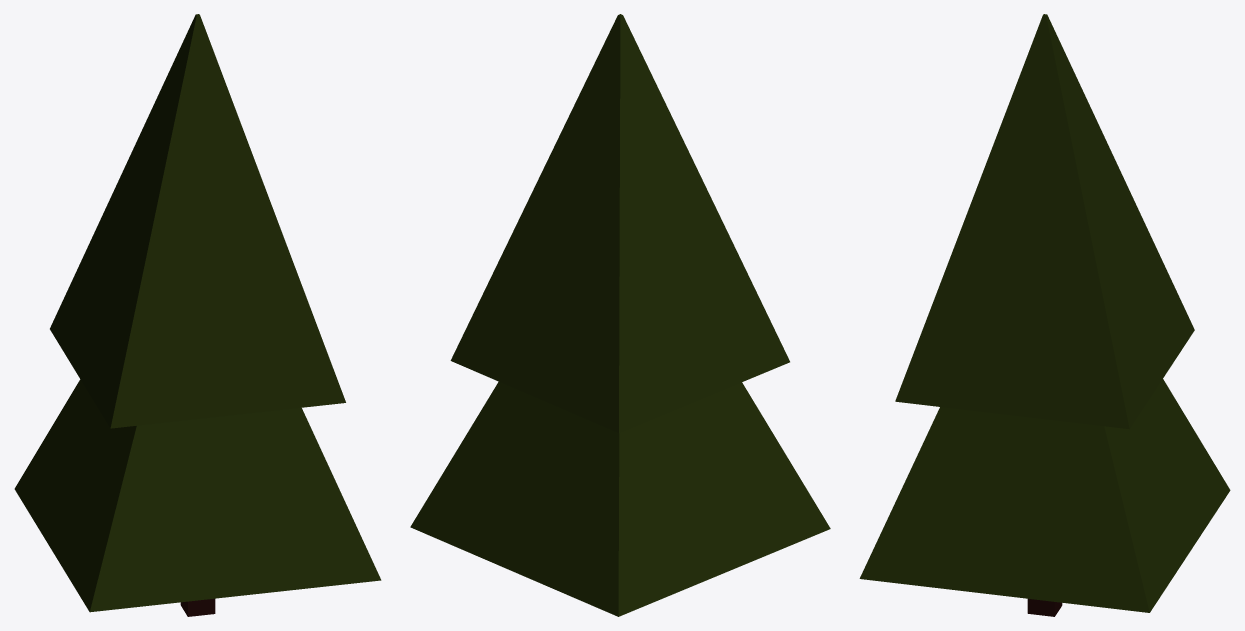
Rendered from tree1.obj.
The picture shows the model from 3 angles, left to right: view 1: azimuth 30°, elevation 25°; view 2: azimuth 150°, elevation 25°; view 3: azimuth 270°, elevation 25°; orthographic projection.
Parts seen in each view (by area): view 1: Cube.000_Cube.008, Cube.000_Cube.000; view 2: Cube.000_Cube.008; view 3: Cube.000_Cube.008, Cube.000_Cube.000.
Part boxes in pixels (bbox=[...]): Cube.000_Cube.008: bbox=[14, 14, 381, 612]; Cube.000_Cube.000: bbox=[180, 598, 215, 616]; Cube.000_Cube.008: bbox=[410, 14, 830, 616]; Cube.000_Cube.008: bbox=[859, 14, 1230, 612]; Cube.000_Cube.000: bbox=[1027, 598, 1062, 616].
Size of the model in its own units: 3.29 by 5.81 by 3.29.
